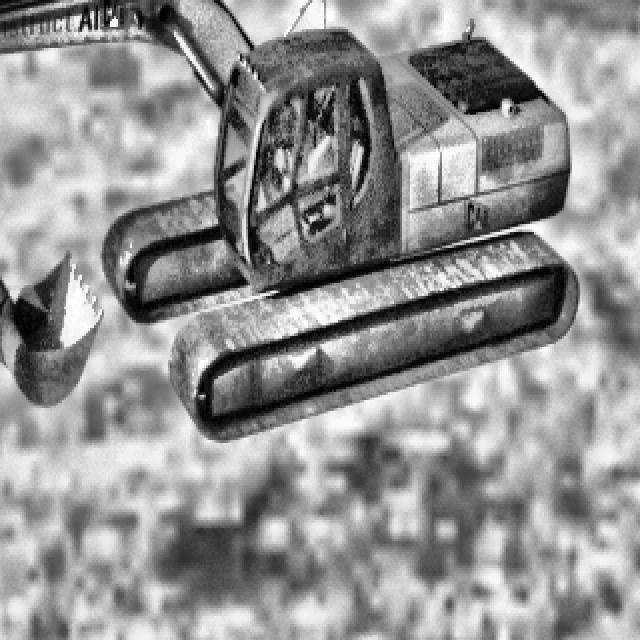excavator: (0, 0, 578, 440)
